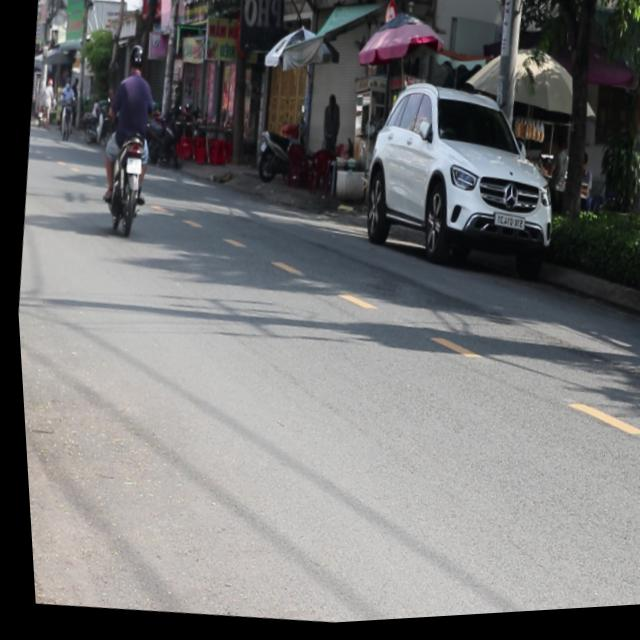helmet: (125, 42, 145, 75)
licenseplate: (86, 38, 167, 238)
nohelmet: (122, 156, 139, 175)
